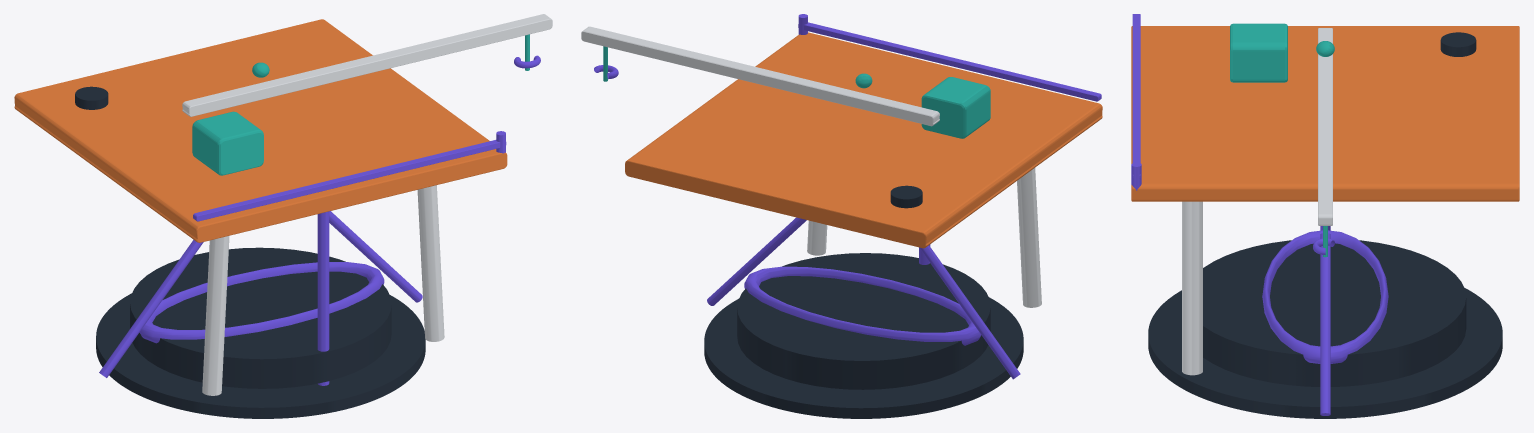
File: 0470_机械图鉴_塔式起重机.glb
3 views of the same model, side by side, from view 1: azimuth 30°, elevation 25°; view 2: azimuth 150°, elevation 25°; view 3: azimuth 270°, elevation 25° (orthographic). The views are drawn at different scales.
Parts seen in each view (by area): view 1: card_0470; view 2: card_0470; view 3: card_0470.
Boxes of the visible parts, <box> form: card_0470: <box>14,14,552,418</box>; card_0470: <box>581,14,1102,418</box>; card_0470: <box>1131,14,1519,418</box>.
Bounding box in the file's own units: 1.6 × 1 × 1.12.
